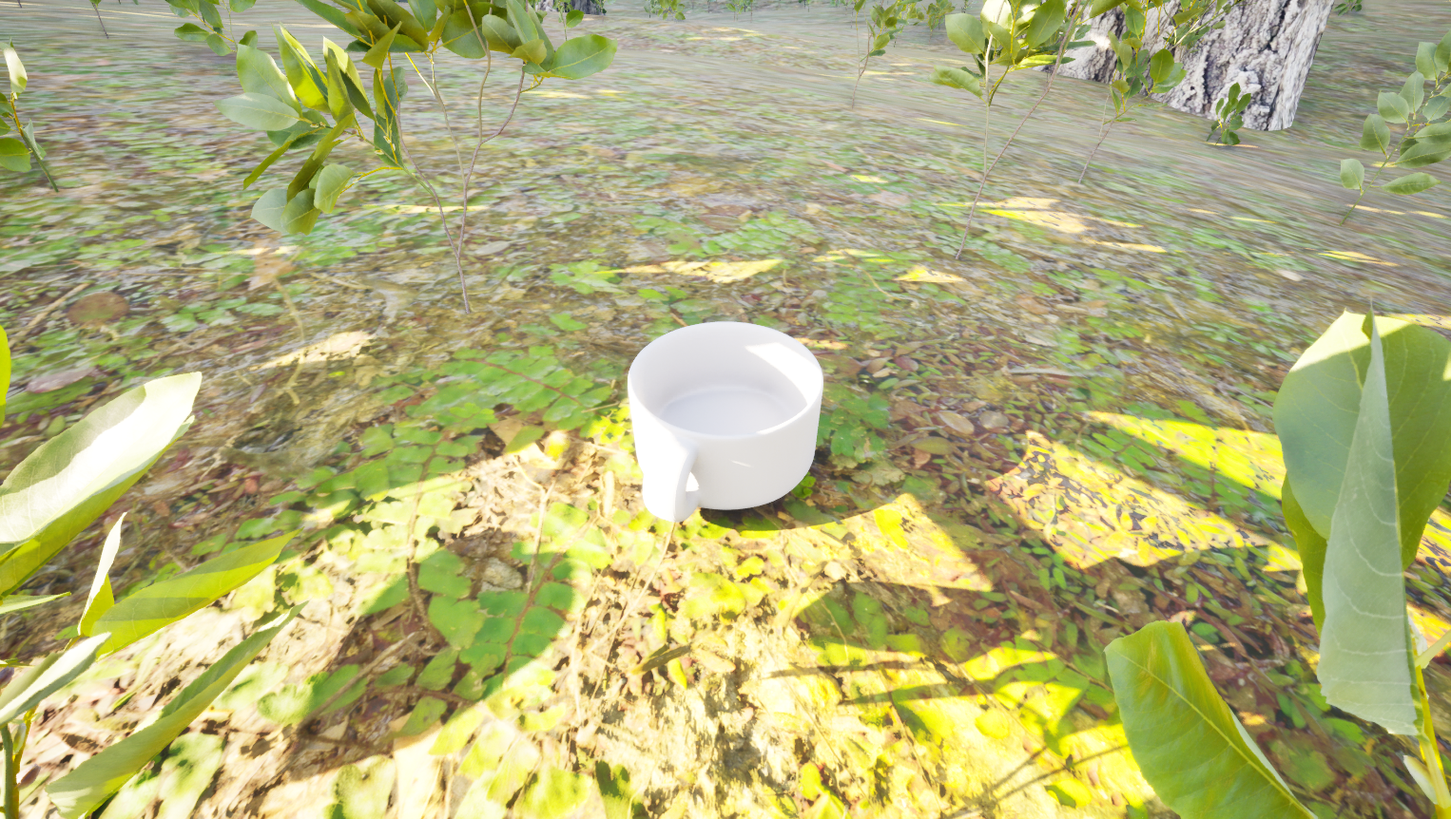Teacup: (569, 304, 865, 557)
